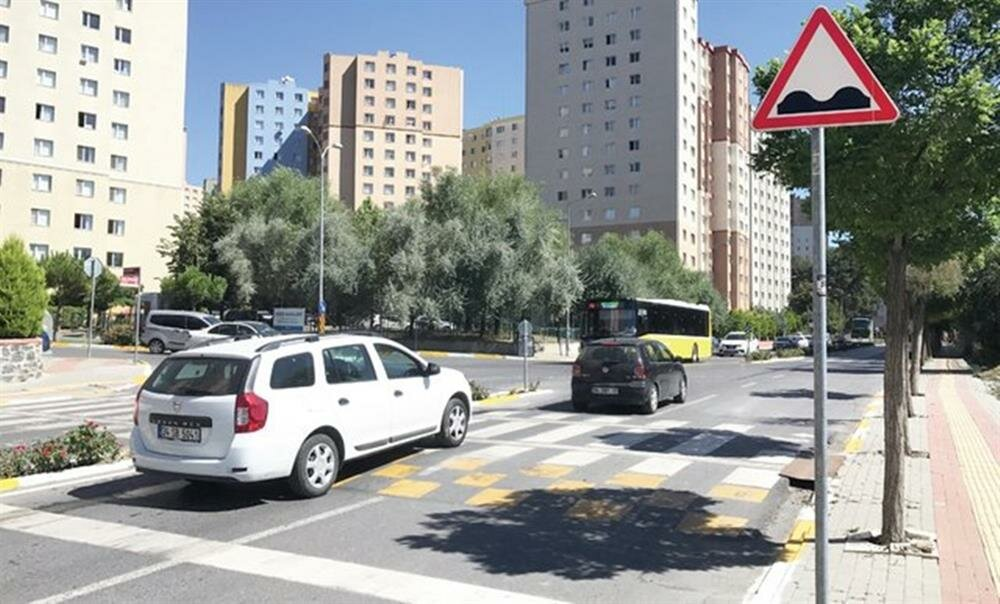Kasisli Yol: (753, 6, 905, 135)
